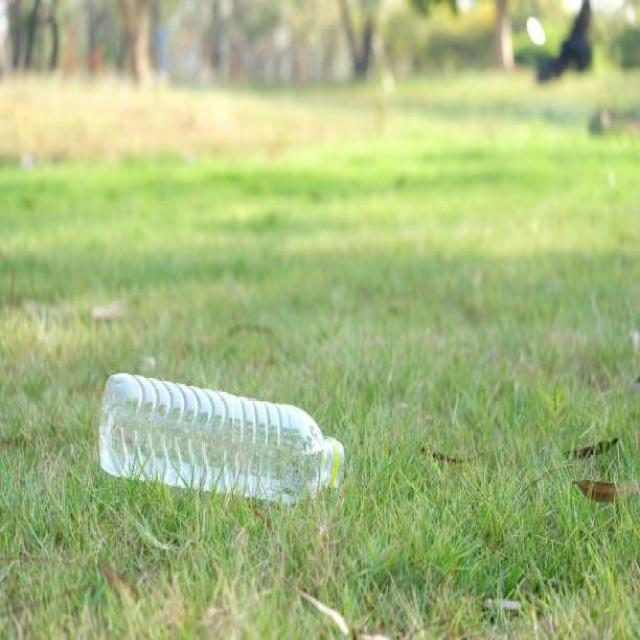plastic: (103, 372, 345, 501)
